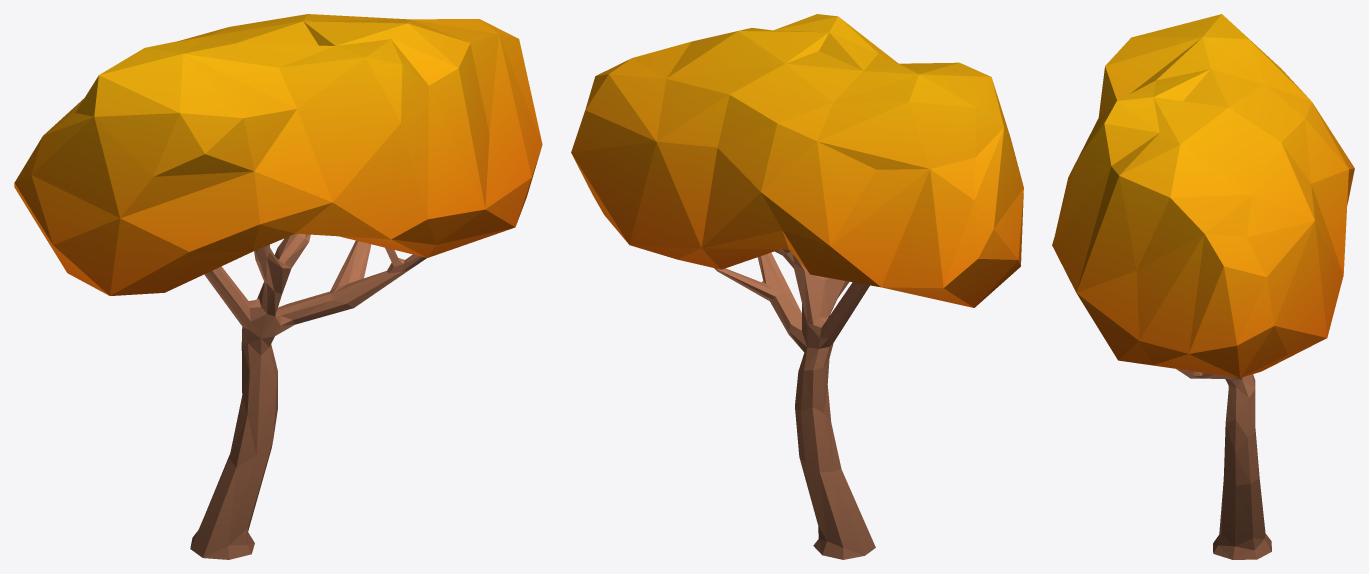
The model's file is autumn tree.fbx.
3 views of the same model, side by side, from view 1: azimuth 30°, elevation 25°; view 2: azimuth 150°, elevation 25°; view 3: azimuth 270°, elevation 25° (orthographic). The views are drawn at different scales.
Visible parts, largest first — view 1: autumn tree; view 2: autumn tree; view 3: autumn tree.
Boxes of the visible parts, <box> form: autumn tree: <box>14,14,542,559</box>; autumn tree: <box>571,14,1023,559</box>; autumn tree: <box>1052,14,1354,559</box>.
Size of the model in its own units: 650 by 674 by 383.
